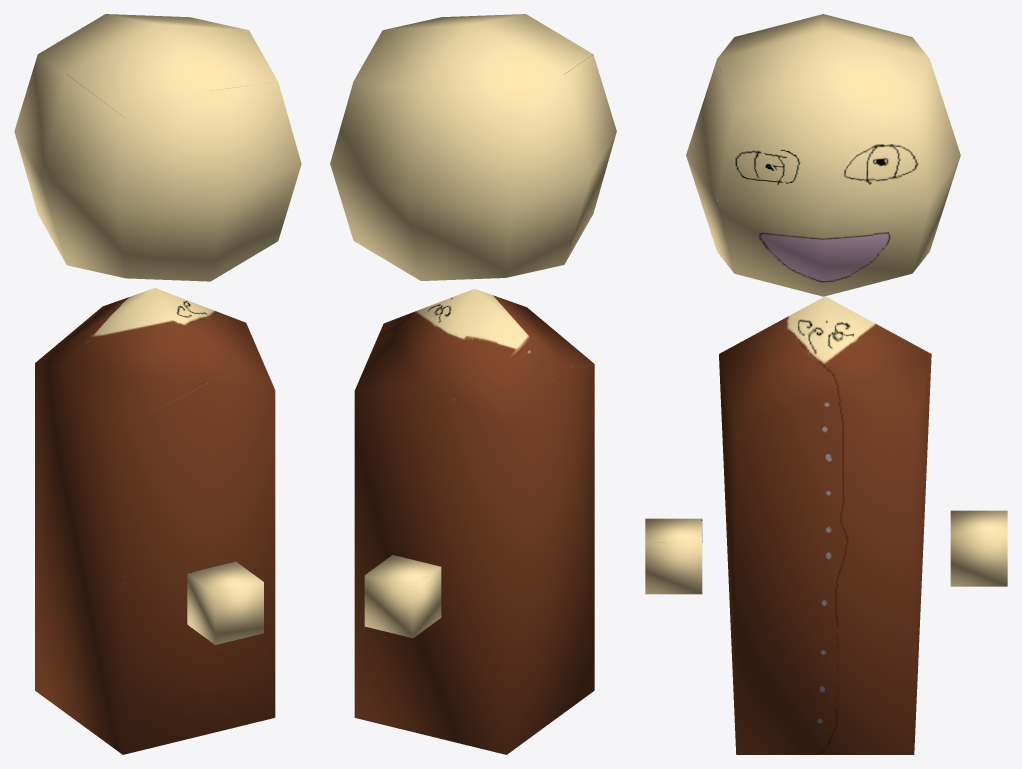
The picture shows the model from 3 angles, left to right: view 1: azimuth 30°, elevation 25°; view 2: azimuth 150°, elevation 25°; view 3: azimuth 270°, elevation 25°; orthographic projection.
Parts seen in each view (by area): view 1: objMesh; view 2: objMesh; view 3: objMesh.
Boxes of the visible parts, <box> form: objMesh: <box>14,14,301,754</box>; objMesh: <box>330,14,616,754</box>; objMesh: <box>645,14,1007,754</box>.
Size of what is drawn, in the model's own units: 142 by 390 by 187.
2 materials, 2 textured.
